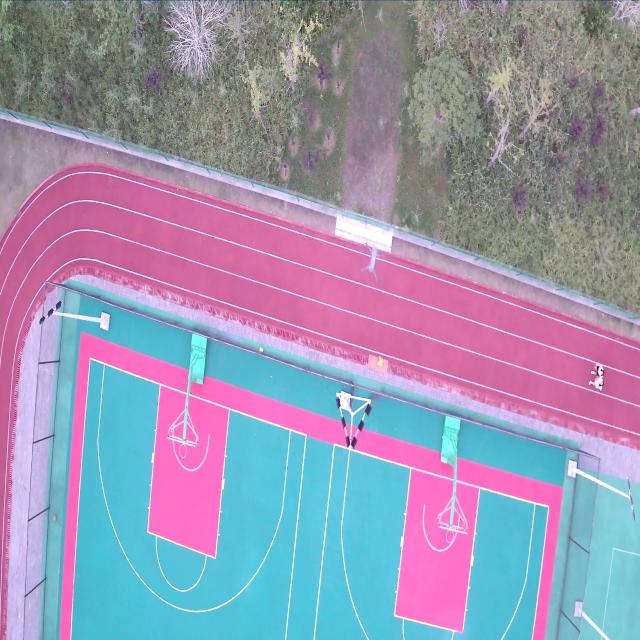UAV: (360, 241, 386, 283)
